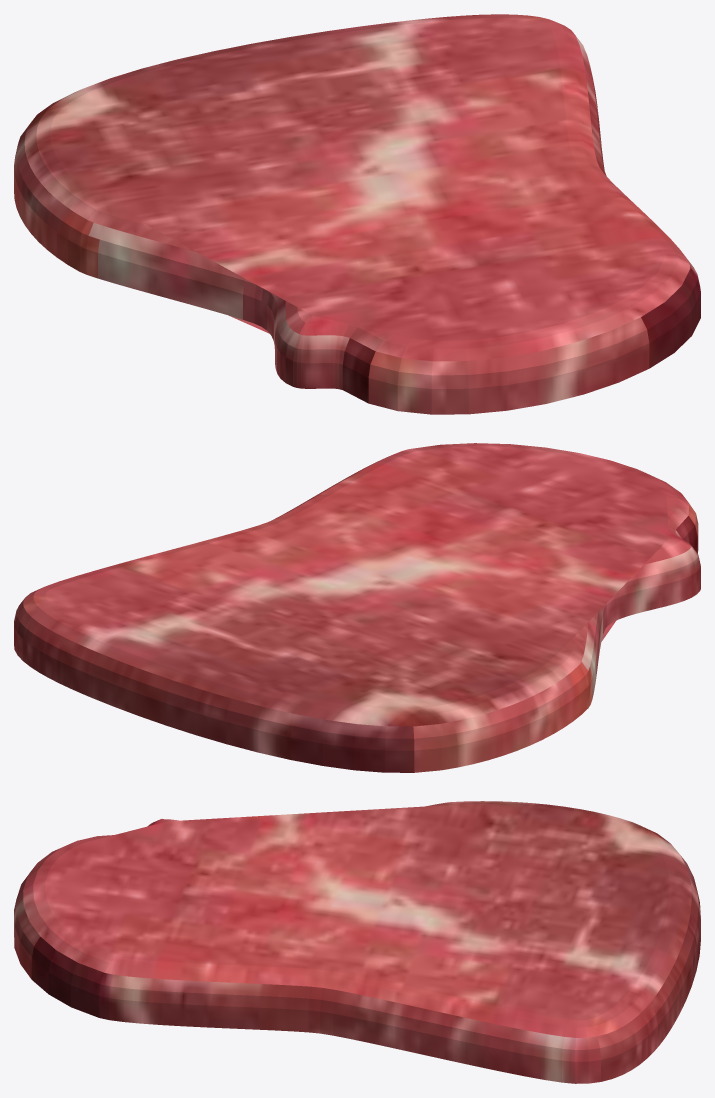
The model's file is beef.fbx.
3 renders of one model, top to bottom at view 1: azimuth 30°, elevation 25°; view 2: azimuth 150°, elevation 25°; view 3: azimuth 270°, elevation 25°, orthographic. The views are drawn at different scales.
Parts seen in each view (by area): view 1: BézierCurve; view 2: BézierCurve; view 3: BézierCurve.
Part boxes in pixels (left/top/right/bottom): BézierCurve: left=14, top=14, right=700, bottom=414; BézierCurve: left=14, top=443, right=700, bottom=772; BézierCurve: left=14, top=801, right=700, bottom=1083.
Bounding box in the file's own units: 657 × 63.5 × 786.
